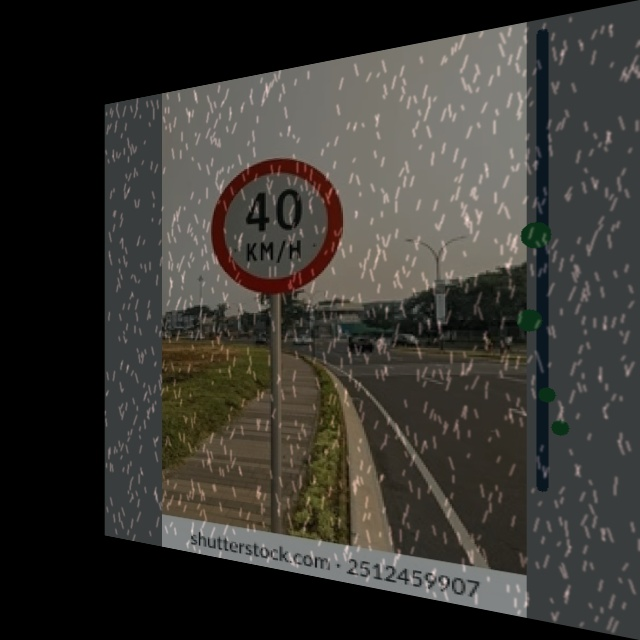Speed_Limit_40: (214, 148, 344, 293)
